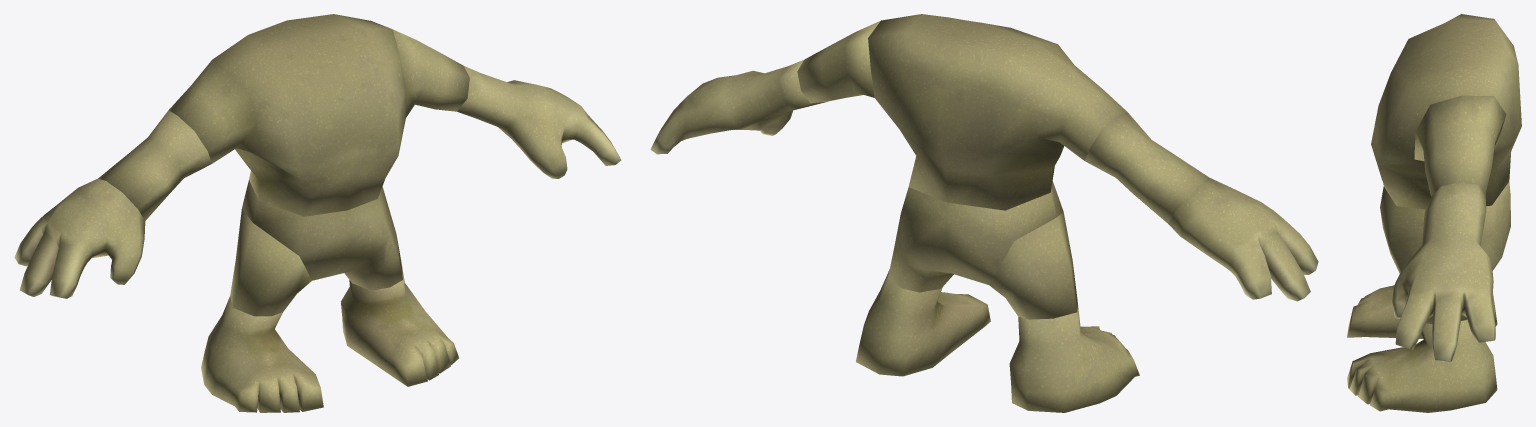
Rendered from zombie_shatterParts2.fbx.
The picture shows the model from 3 angles, left to right: view 1: azimuth 30°, elevation 25°; view 2: azimuth 150°, elevation 25°; view 3: azimuth 270°, elevation 25°; orthographic projection. The views are drawn at different scales.
Visible parts, largest first — view 1: zombieShatter.003, zombieShatter.001, zombieShatter.002, zombieShatter.009, zombieShatter.004, zombieShatter.005, zombieShatter.008, zombieShatter.007, zombieShatter; view 2: zombieShatter.003, zombieShatter.002, zombieShatter.001, zombieShatter.009, zombieShatter.005, zombieShatter.004, zombieShatter.008, zombieShatter.007, zombieShatter; view 3: zombieShatter.003, zombieShatter.004, zombieShatter.005, zombieShatter, zombieShatter.002, zombieShatter.009.
Part boxes in pixels (x1,y1,x2,y2): zombieShatter.003: (169, 14, 406, 216); zombieShatter.001: (14, 178, 145, 298); zombieShatter.002: (242, 180, 402, 290); zombieShatter.009: (201, 296, 323, 412); zombieShatter.004: (457, 66, 621, 178); zombieShatter.005: (341, 268, 458, 386); zombieShatter.008: (98, 110, 211, 220); zombieShatter.007: (230, 208, 311, 316); zombieShatter: (392, 29, 469, 117); zombieShatter.003: (868, 14, 1126, 210); zombieShatter.002: (888, 181, 1063, 292); zombieShatter.001: (1168, 177, 1318, 301); zombieShatter.009: (1009, 305, 1139, 412); zombieShatter.005: (856, 269, 990, 376); zombieShatter.004: (650, 60, 827, 154); zombieShatter.008: (1085, 112, 1208, 223); zombieShatter.007: (989, 212, 1077, 319); zombieShatter: (797, 20, 880, 103); zombieShatter.003: (1371, 14, 1521, 209); zombieShatter.004: (1392, 182, 1495, 361); zombieShatter.005: (1347, 319, 1497, 412); zombieShatter: (1414, 95, 1506, 196); zombieShatter.002: (1380, 182, 1510, 323); zombieShatter.009: (1347, 285, 1497, 338).
Bounding box in the file's own units: 334 × 173 × 86.52.
